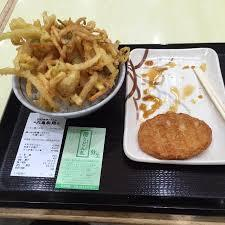kakiage: (10, 18, 118, 101)
